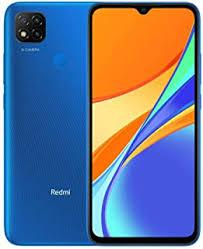Smartphone: (5, 5, 89, 245)
